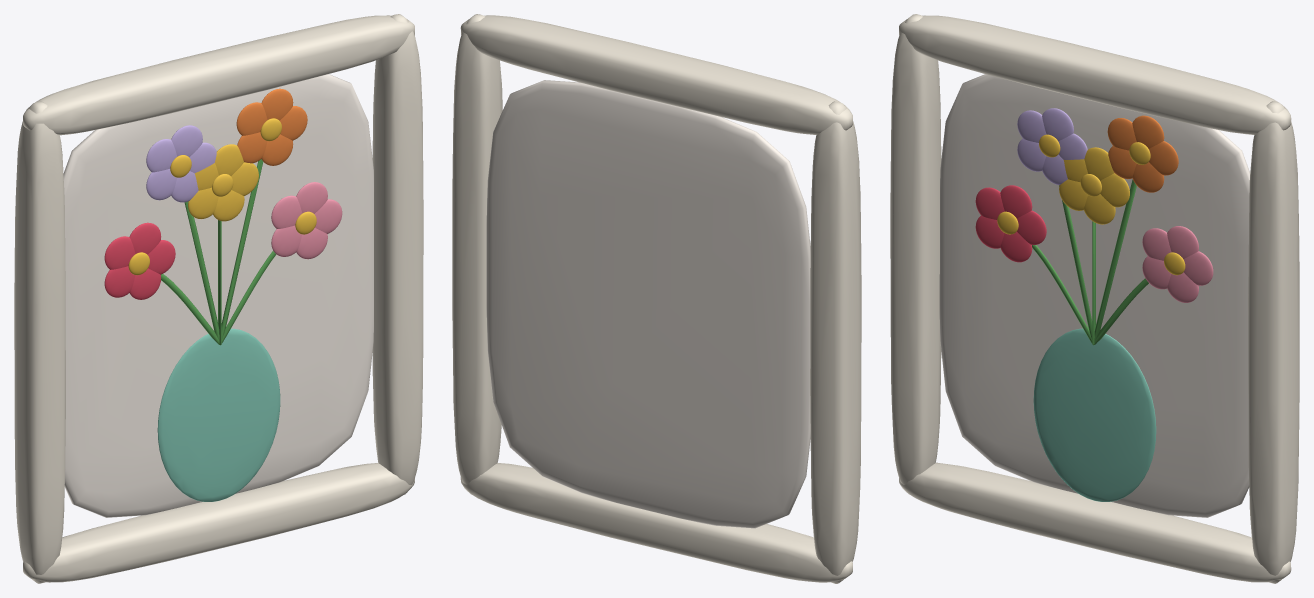
File: deco_cuadro_flores.glb
3 renders of one model, left to right at view 1: azimuth 30°, elevation 25°; view 2: azimuth 150°, elevation 25°; view 3: azimuth 330°, elevation 25°, orthographic.
Visible parts, largest first — view 1: lienzo.007, marco vertical.014, marco vertical.015, marco horizontal.015, marco horizontal.014, jarrón pintado.001, tallo pintado 4.001, tallo pintado 3.001, pétalo pintado 02.001, pétalo pintado 42.001, pétalo pintado 32.001, pétalo pintado 22.001 (+22 smaller); view 2: lienzo.007, marco vertical.014, marco horizontal.015, marco vertical.015, marco horizontal.014; view 3: lienzo.007, marco vertical.015, marco vertical.014, marco horizontal.015, marco horizontal.014, jarrón pintado.001, tallo pintado 4.001, tallo pintado 3.001, pétalo pintado 31.001, pétalo pintado 21.001, pétalo pintado 41.001, pétalo pintado 01.001 (+22 smaller).
Part boxes in pixels (bbox=[...]): lienzo.007: bbox=[63, 74, 373, 517]; marco vertical.014: bbox=[14, 101, 65, 583]; marco vertical.015: bbox=[372, 14, 423, 494]; marco horizontal.015: bbox=[23, 15, 414, 135]; marco horizontal.014: bbox=[23, 463, 414, 582]; jarrón pintado.001: bbox=[157, 328, 280, 501]; tallo pintado 4.001: bbox=[221, 159, 263, 339]; tallo pintado 3.001: bbox=[184, 201, 219, 344]; pétalo pintado 02.001: bbox=[104, 236, 135, 269]; pétalo pintado 42.001: bbox=[236, 102, 267, 135]; pétalo pintado 32.001: bbox=[146, 139, 177, 172]; pétalo pintado 22.001: bbox=[271, 195, 302, 228]; lienzo.007: bbox=[486, 80, 810, 528]; marco vertical.014: bbox=[810, 101, 861, 583]; marco horizontal.015: bbox=[460, 15, 852, 134]; marco vertical.015: bbox=[452, 14, 502, 494]; marco horizontal.014: bbox=[460, 463, 852, 582]; lienzo.007: bbox=[939, 74, 1250, 517]; marco vertical.015: bbox=[1248, 101, 1299, 583]; marco vertical.014: bbox=[890, 14, 941, 494]; marco horizontal.015: bbox=[899, 15, 1291, 134]; marco horizontal.014: bbox=[899, 462, 1291, 582]; jarrón pintado.001: bbox=[1033, 328, 1156, 501]; tallo pintado 4.001: bbox=[1094, 179, 1136, 341]; tallo pintado 3.001: bbox=[1059, 185, 1092, 339]; pétalo pintado 31.001: bbox=[1042, 108, 1073, 141]; pétalo pintado 21.001: bbox=[1167, 226, 1198, 258]; pétalo pintado 41.001: bbox=[1132, 115, 1164, 148]; pétalo pintado 01.001: bbox=[1000, 185, 1032, 218].
Size of the model in its own units: 0.5695 by 0.6698 by 0.0598.
